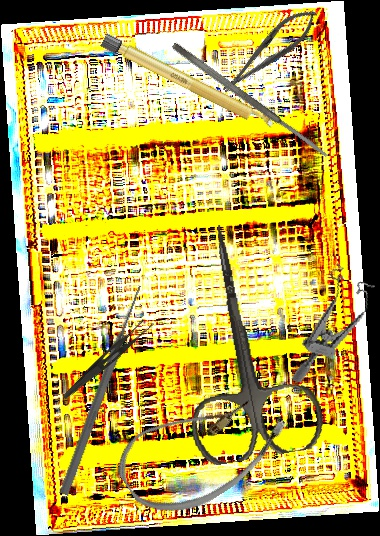Cannula: (106, 364, 299, 535)
Dressing Forceps: (61, 312, 157, 409)
Iris Scissors: (156, 213, 328, 469)
Needle Holder: (213, 0, 325, 102)
Pusher: (57, 283, 147, 497)
Scalpel Handle: (99, 32, 277, 134)
Spatula Surgical: (170, 40, 331, 162)
Speculum: (290, 259, 379, 396)
